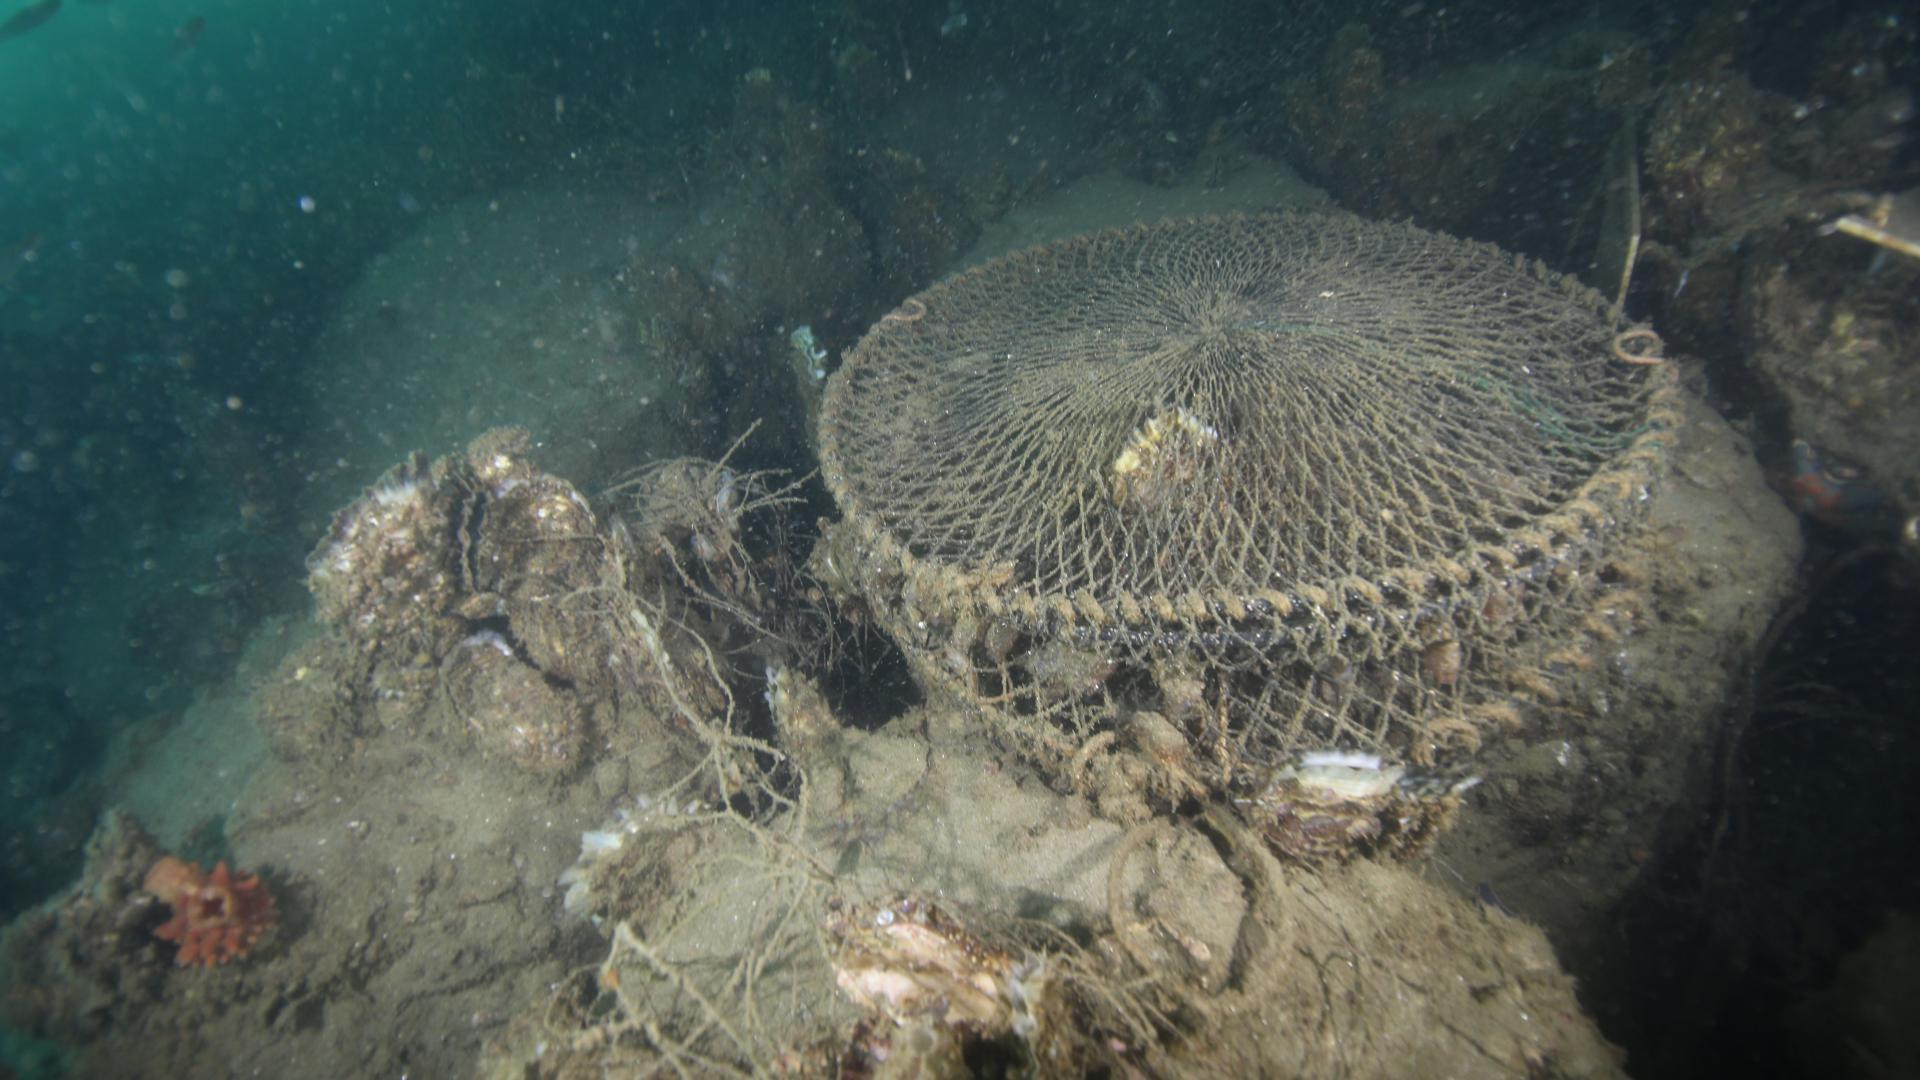circular fish trap: (807, 202, 1692, 865)
